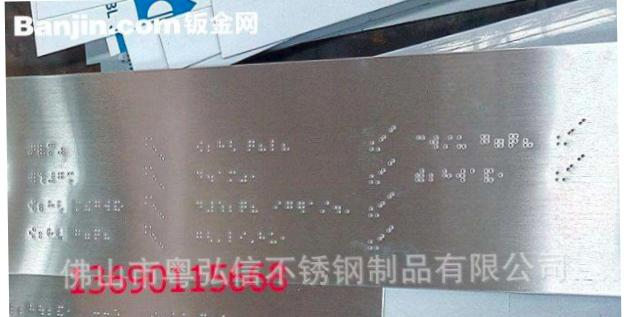Braille: (344, 199, 356, 216), (479, 133, 491, 150), (483, 167, 495, 183), (508, 133, 520, 149), (238, 168, 249, 185), (498, 167, 509, 184), (441, 168, 453, 183), (296, 199, 307, 215), (456, 134, 467, 150), (470, 167, 481, 183), (494, 133, 505, 149), (308, 199, 318, 216), (320, 199, 330, 216), (427, 168, 439, 182), (281, 231, 292, 246), (414, 168, 425, 183), (455, 168, 466, 183), (272, 199, 282, 215), (416, 134, 426, 150), (443, 134, 453, 150), (227, 230, 238, 244), (205, 199, 215, 214), (239, 199, 249, 214), (523, 133, 533, 148), (206, 139, 215, 155), (217, 168, 226, 184), (228, 168, 237, 184), (250, 168, 259, 184), (333, 200, 342, 216), (270, 138, 280, 152), (205, 169, 215, 183), (269, 231, 279, 245), (247, 138, 256, 153), (258, 138, 267, 153), (282, 138, 291, 153), (285, 199, 294, 214), (430, 135, 439, 150), (239, 231, 249, 244), (218, 139, 226, 155), (195, 140, 204, 154), (228, 200, 237, 214), (194, 230, 203, 244), (258, 231, 267, 245), (229, 138, 237, 153), (217, 199, 225, 214), (251, 199, 259, 214), (217, 231, 226, 244), (196, 170, 204, 184), (205, 230, 213, 244), (28, 144, 37, 156), (121, 200, 129, 213), (47, 227, 55, 240), (196, 200, 203, 214), (48, 144, 56, 156), (28, 172, 36, 184), (39, 172, 47, 184), (29, 200, 37, 212), (39, 200, 47, 212), (74, 200, 82, 212), (29, 227, 37, 239), (38, 227, 46, 239), (250, 231, 257, 244), (48, 200, 56, 211), (57, 200, 65, 211), (104, 200, 111, 212), (114, 200, 121, 212), (103, 229, 110, 241), (38, 304, 45, 316), (39, 144, 46, 155), (49, 172, 56, 183), (57, 172, 64, 183), (67, 172, 74, 183), (94, 201, 101, 212), (94, 229, 101, 240), (74, 229, 81, 240), (85, 228, 91, 240), (84, 201, 91, 211), (58, 144, 64, 155)
